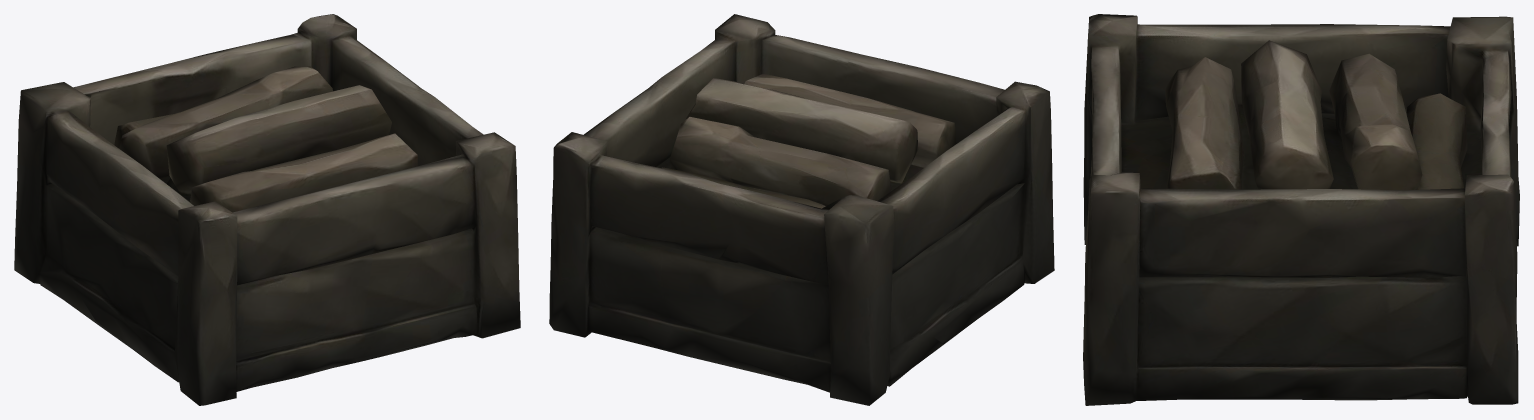
Rendered from wooden_crate_open.glb.
The picture shows the model from 3 angles, left to right: view 1: azimuth 30°, elevation 25°; view 2: azimuth 150°, elevation 25°; view 3: azimuth 270°, elevation 25°; orthographic projection. The views are drawn at different scales.
Parts seen in each view (by area): view 1: tripo_node_5a44143e-65c6-42f3-9dae-e836e5bf0e07; view 2: tripo_node_5a44143e-65c6-42f3-9dae-e836e5bf0e07; view 3: tripo_node_5a44143e-65c6-42f3-9dae-e836e5bf0e07.
Boxes of the visible parts, left/top/right/bottom form: tripo_node_5a44143e-65c6-42f3-9dae-e836e5bf0e07: left=14, top=14, right=520, bottom=405; tripo_node_5a44143e-65c6-42f3-9dae-e836e5bf0e07: left=549, top=14, right=1054, bottom=405; tripo_node_5a44143e-65c6-42f3-9dae-e836e5bf0e07: left=1083, top=14, right=1519, bottom=405.
Bounding box in the file's own units: 0.995 × 0.569 × 1.
Materials: 1 (1 with a texture image).
